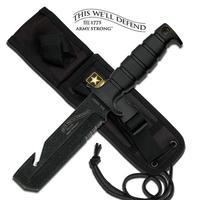knife: (13, 25, 172, 198)
